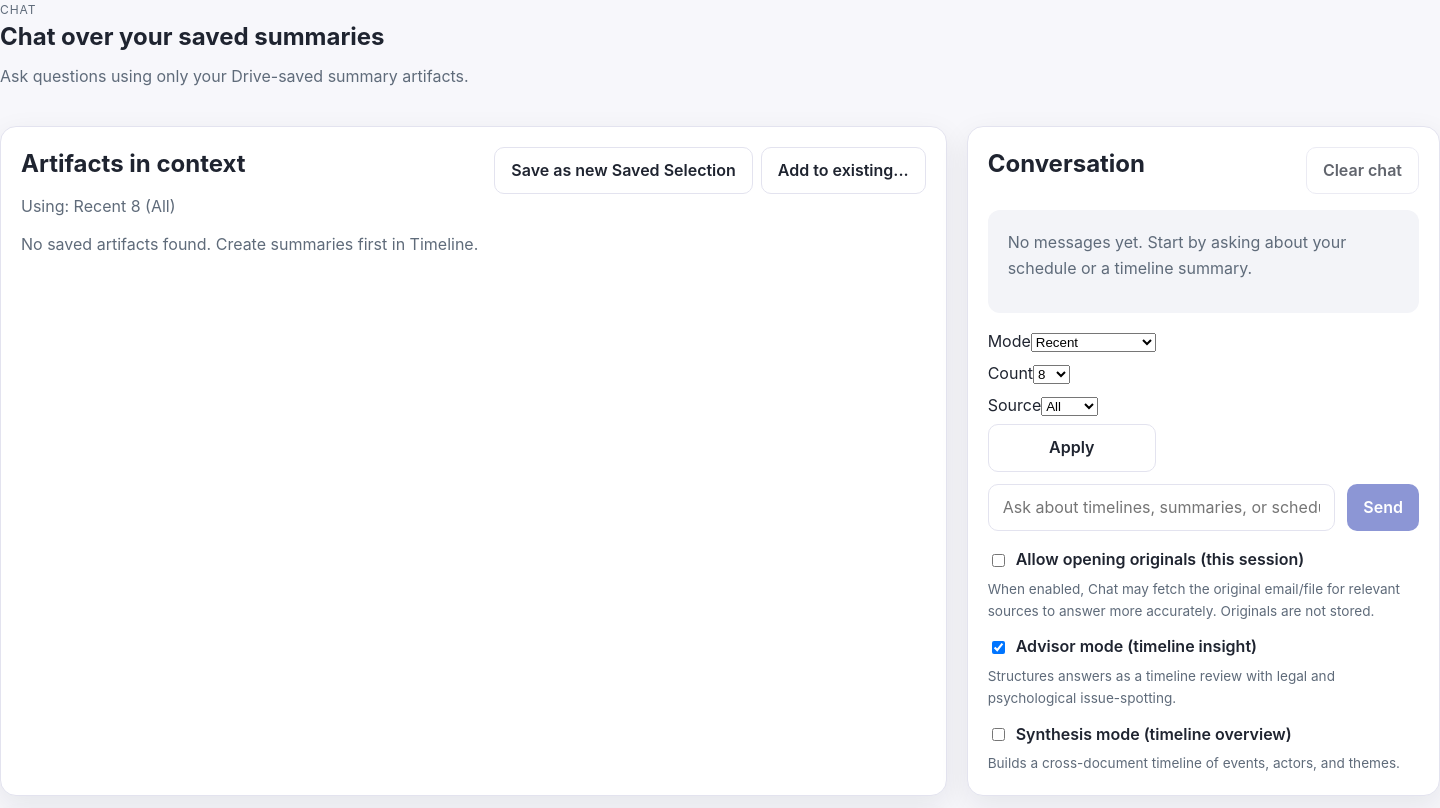
ChatPageClient › shows mapped provider error message for code provider_unauthorized
Type "trigger error" into the field named "chat input" at (1162, 508), box [988,484,1335,531]
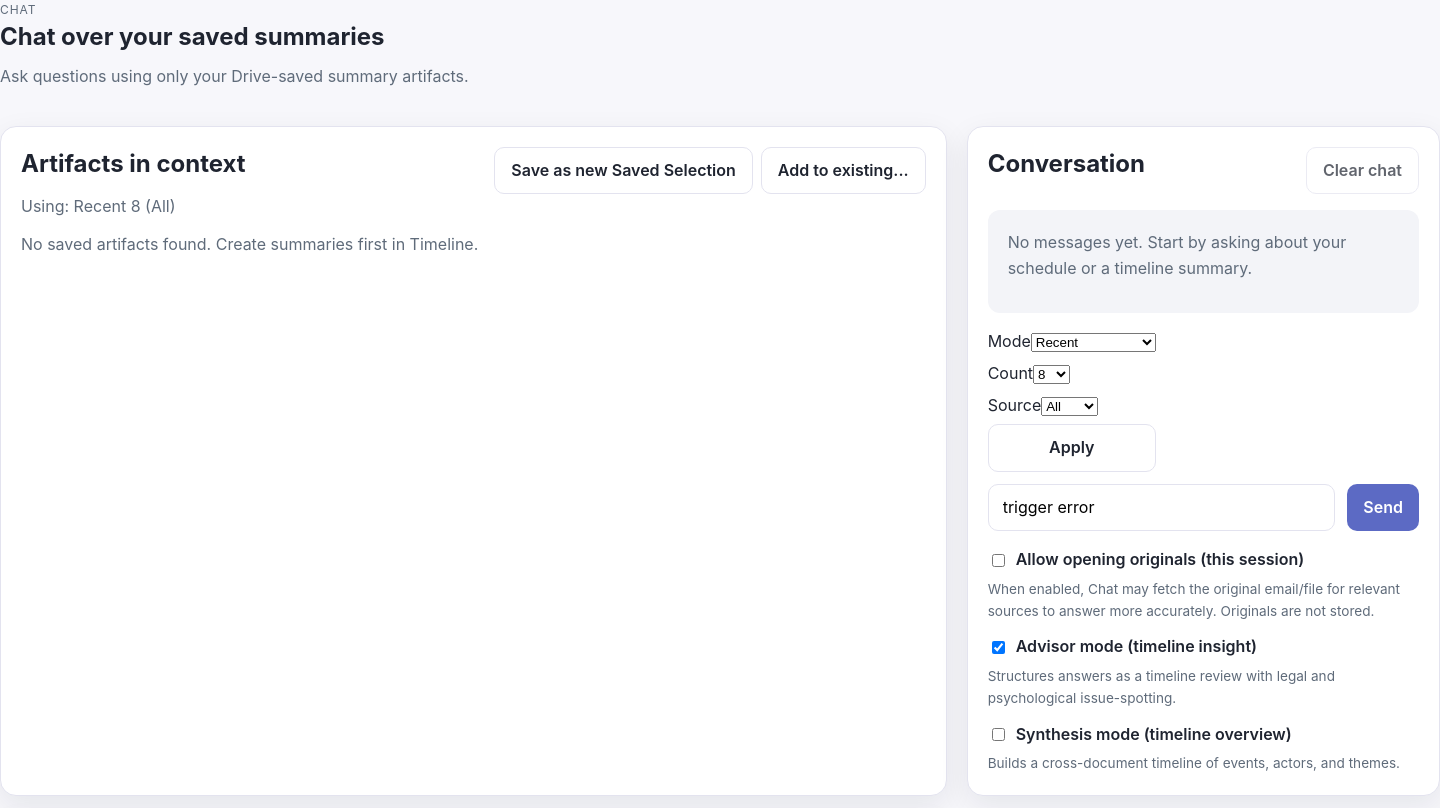
Click the button "Send" at (1383, 508), box [1347,484,1419,531]
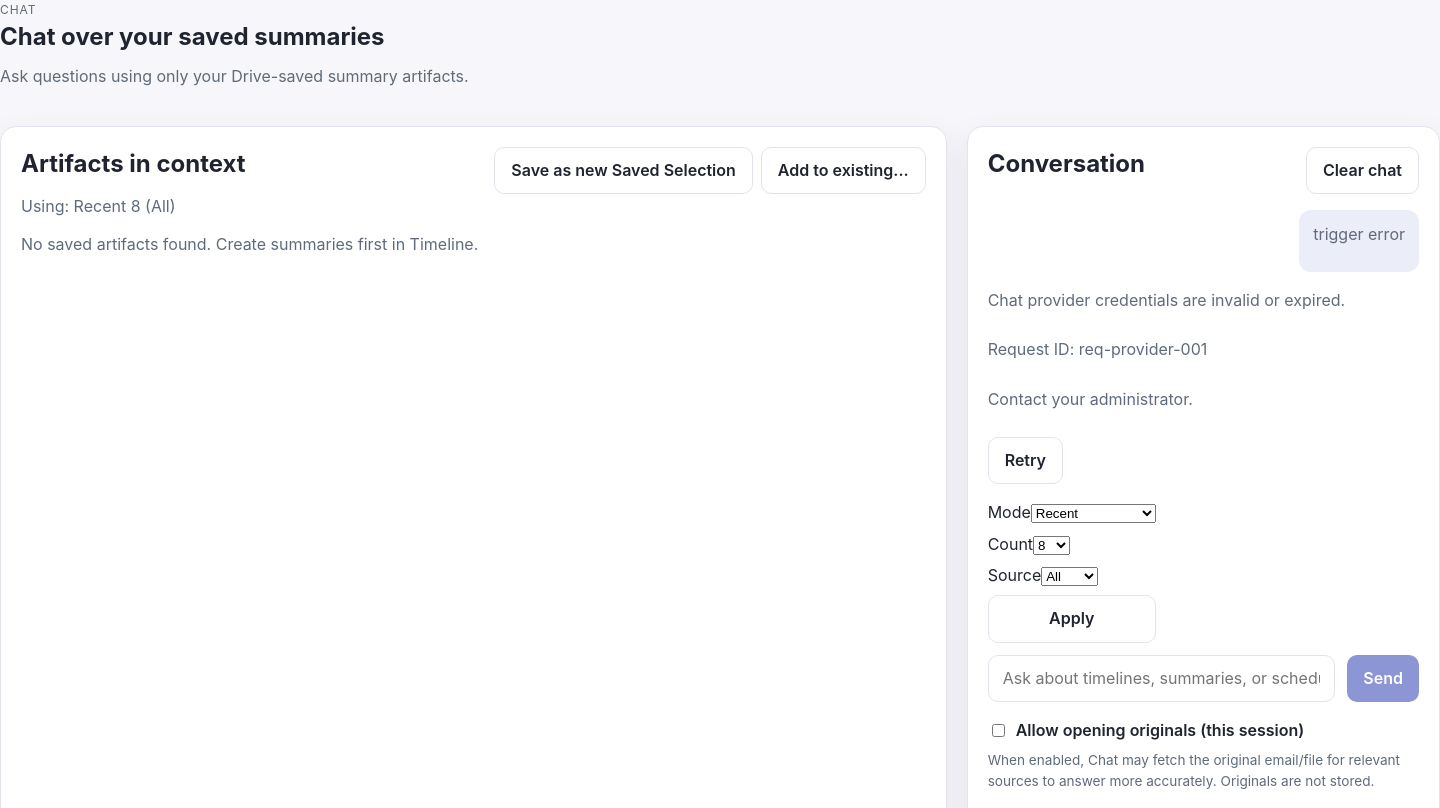
Expected: the text "Chat provider credentials are invalid or expired." is shown, [988,290,1345,310]
Expected: the text "Request ID: req-provider-001" is shown, [988,339,1207,359]
